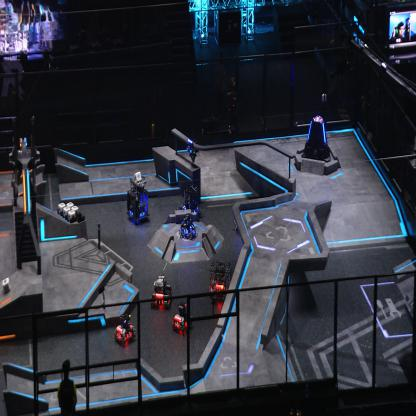car: (208, 256, 232, 305), (126, 176, 150, 224), (176, 182, 200, 222), (149, 273, 171, 309), (113, 314, 137, 347), (171, 302, 193, 336), (179, 213, 197, 240)
